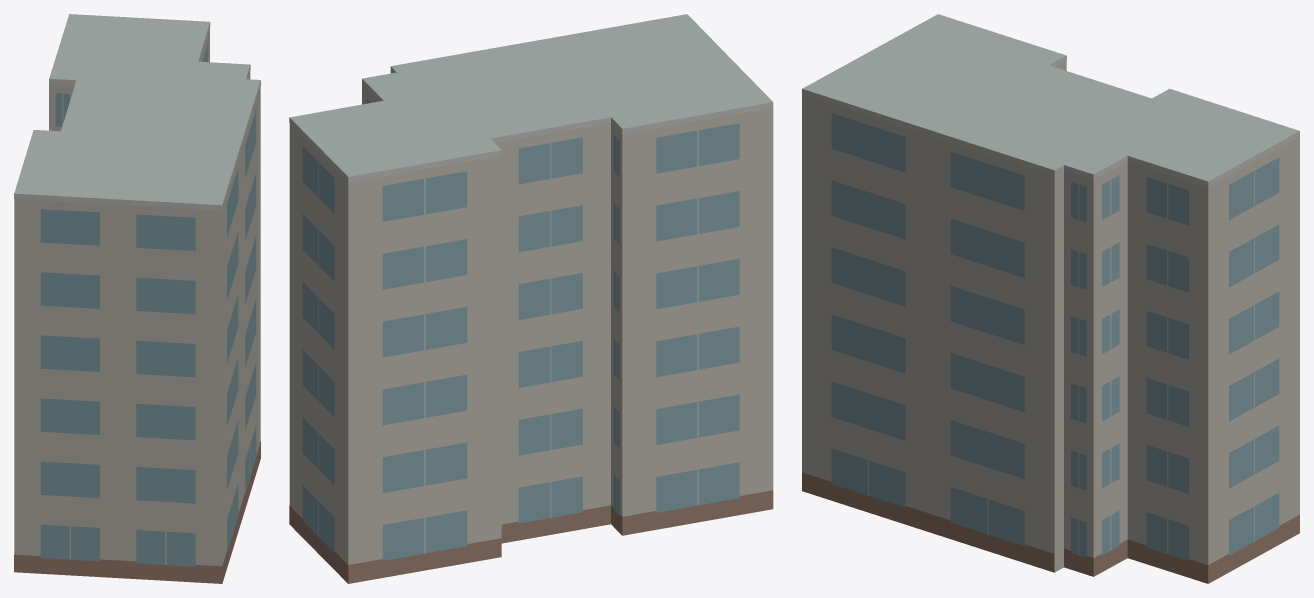
Rendered from survey-upis-33015720.glb.
3 views of the same model, side by side, from view 1: azimuth 30°, elevation 25°; view 2: azimuth 150°, elevation 25°; view 3: azimuth 270°, elevation 25° (orthographic). The views are drawn at different scales.
Visible parts, largest first — view 1: survey-upis-33015720.tmp; view 2: survey-upis-33015720.tmp; view 3: survey-upis-33015720.tmp.
Boxes of the visible parts, x1,y1,x2,y2 form: survey-upis-33015720.tmp: (14,14,260,583); survey-upis-33015720.tmp: (289,14,773,583); survey-upis-33015720.tmp: (802,14,1299,583).
Bounding box in the file's own units: 15.59 × 17.45 × 19.57.
